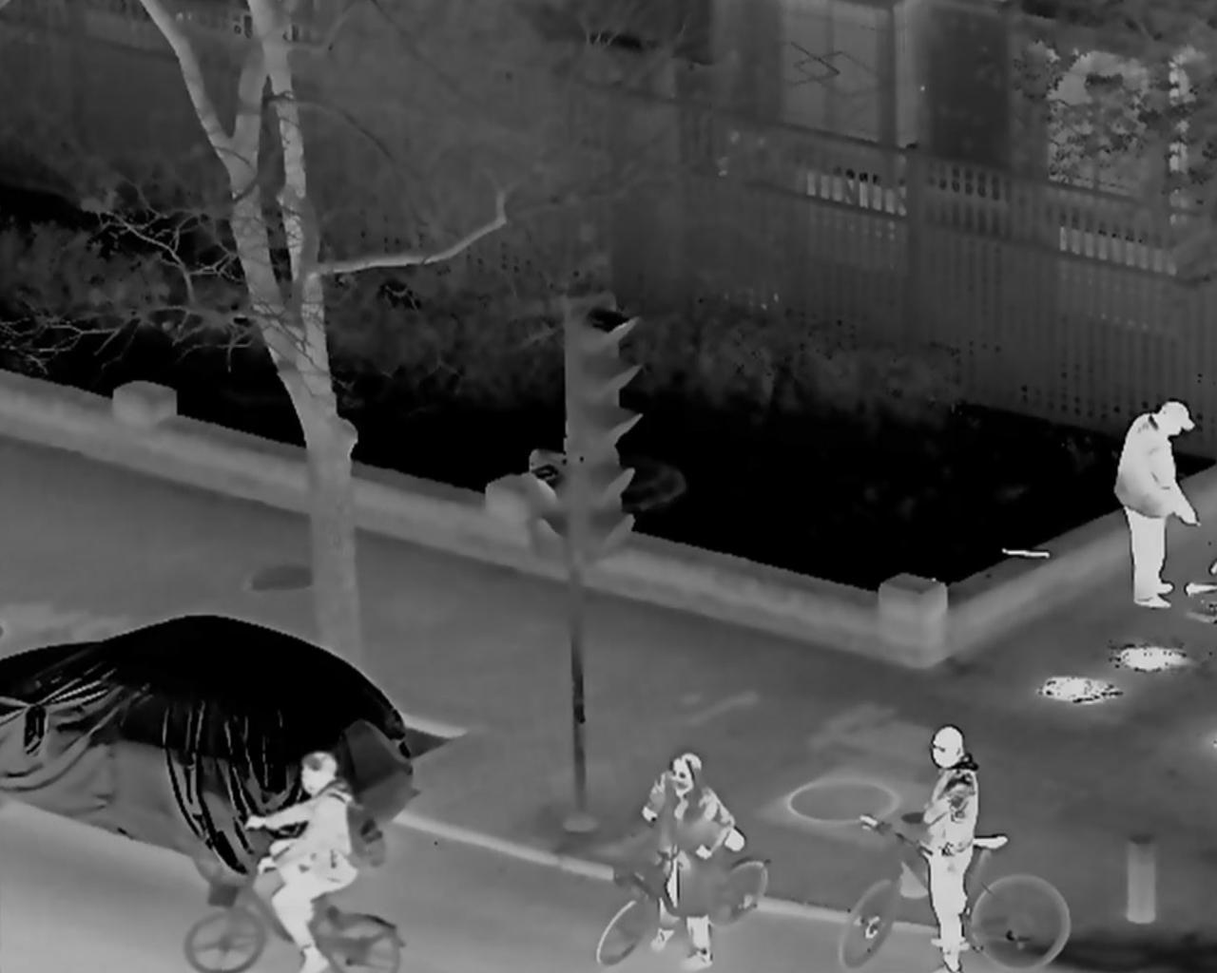person: (249, 755, 366, 973), (1115, 401, 1202, 612), (643, 753, 724, 971), (921, 720, 980, 973)
